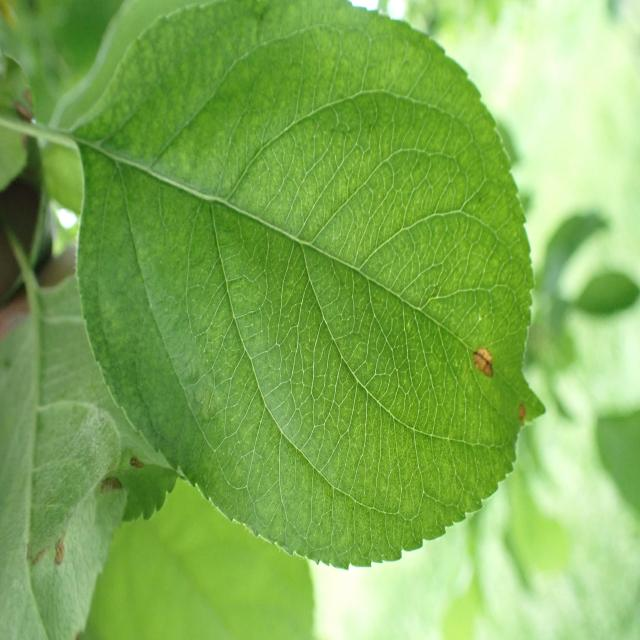Black Rot: (462, 333, 501, 375), (509, 388, 533, 429)
